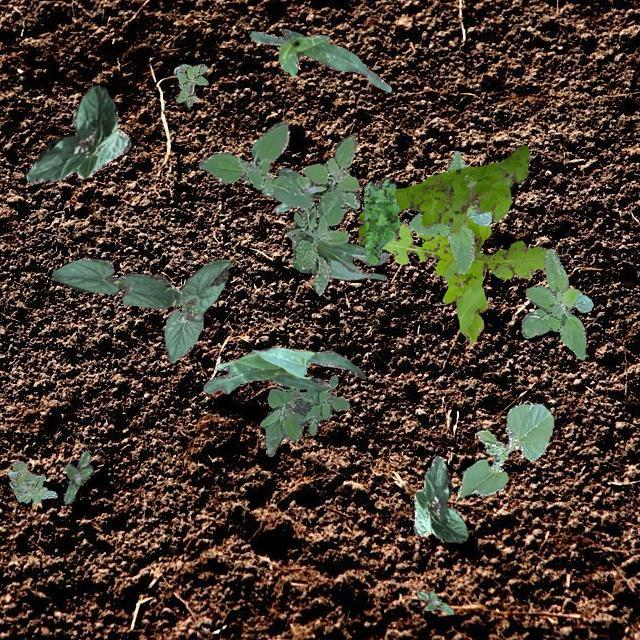crop: (26, 86, 130, 182), (455, 402, 553, 498), (248, 28, 390, 90), (202, 347, 364, 392), (162, 258, 230, 362), (51, 256, 172, 308), (412, 454, 468, 542), (286, 230, 388, 278)
weed: (198, 120, 358, 294), (380, 216, 546, 342), (356, 143, 528, 244), (408, 150, 490, 274), (520, 248, 592, 358), (258, 374, 348, 456), (362, 175, 400, 264), (260, 166, 326, 212), (6, 459, 56, 504), (62, 448, 92, 502), (172, 62, 208, 106), (417, 590, 452, 614)
